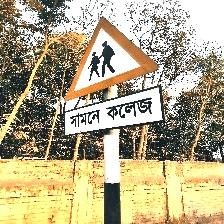College-in-front: (53, 3, 164, 132)
